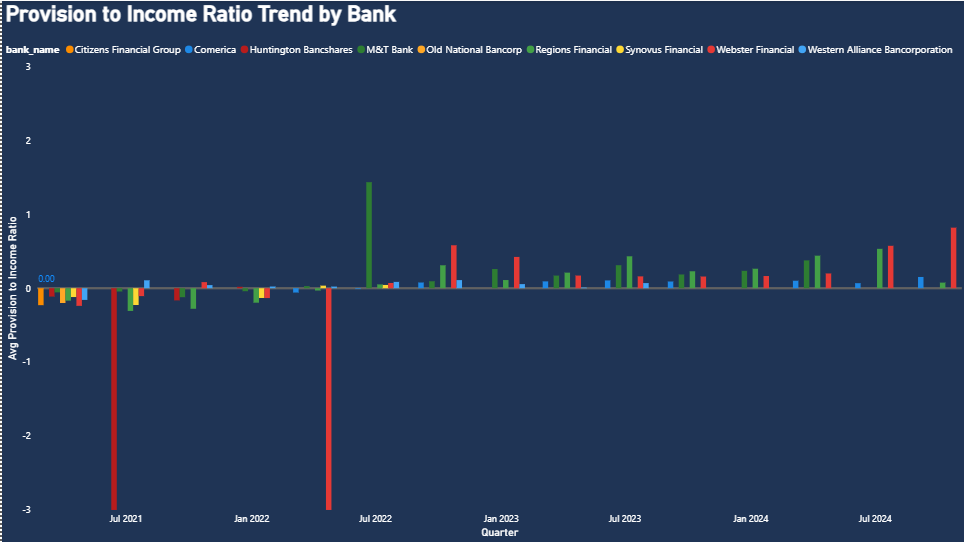

The page's visual inventory and layout, read from the dashboard file:
{"tool":"powerbi","page":{"name":"Page 2","canvas":[1280,720],"ordinal":1},"visuals":[{"type":"clusteredColumnChart","title":"Provision to Income Ratio Trend by Bank","fields":{"Category":["bank_risk_ratios.end_date"],"Series":["bank_risk_ratios.bank_name"],"Y":["Avg(bank_risk_ratios.provision_to_income_ratio)"]},"box":[0,0,1280,719.4],"z":0}]}

Visuals, with their boxes in screenshot pixels (x1, y1, x2, y2), scaled from the page's 1280x720 canvas onto the 964x542 screenshot:
"Provision to Income Ratio Trend by Bank" clusteredColumnChart: <box>0,0,963,541</box>
